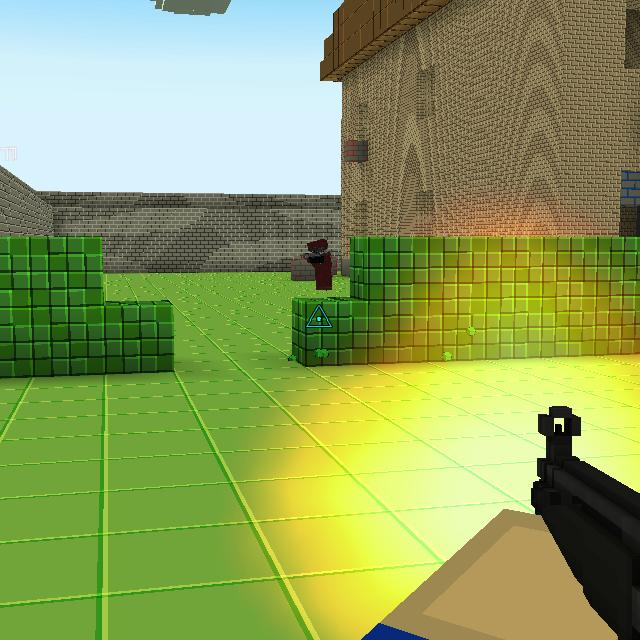enemy: (302, 237, 335, 291)
